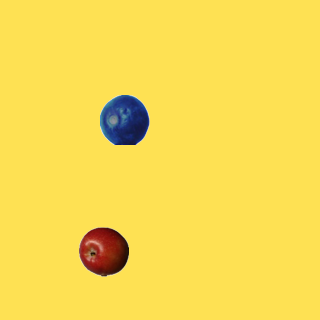Apple Braeburn: (78, 226, 128, 276)
Huckleberry: (99, 94, 149, 144)
